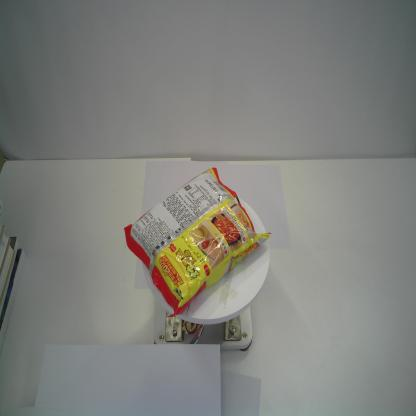Instant Noodles: (122, 166, 272, 318)
